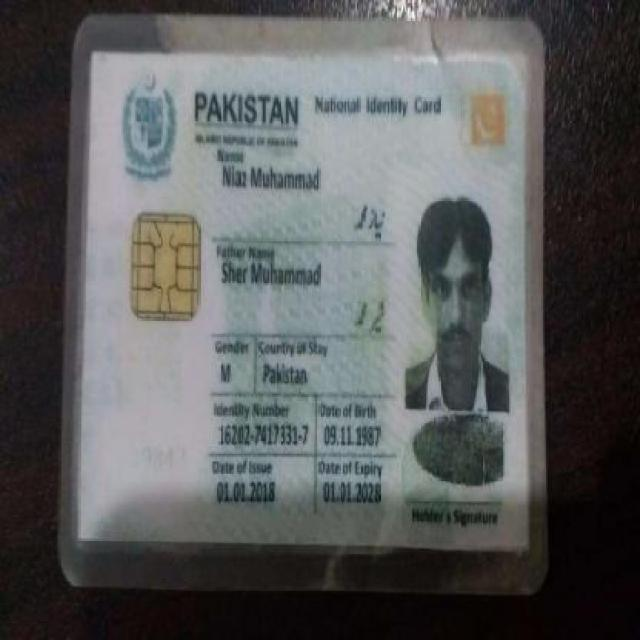Front: (74, 35, 537, 571)
